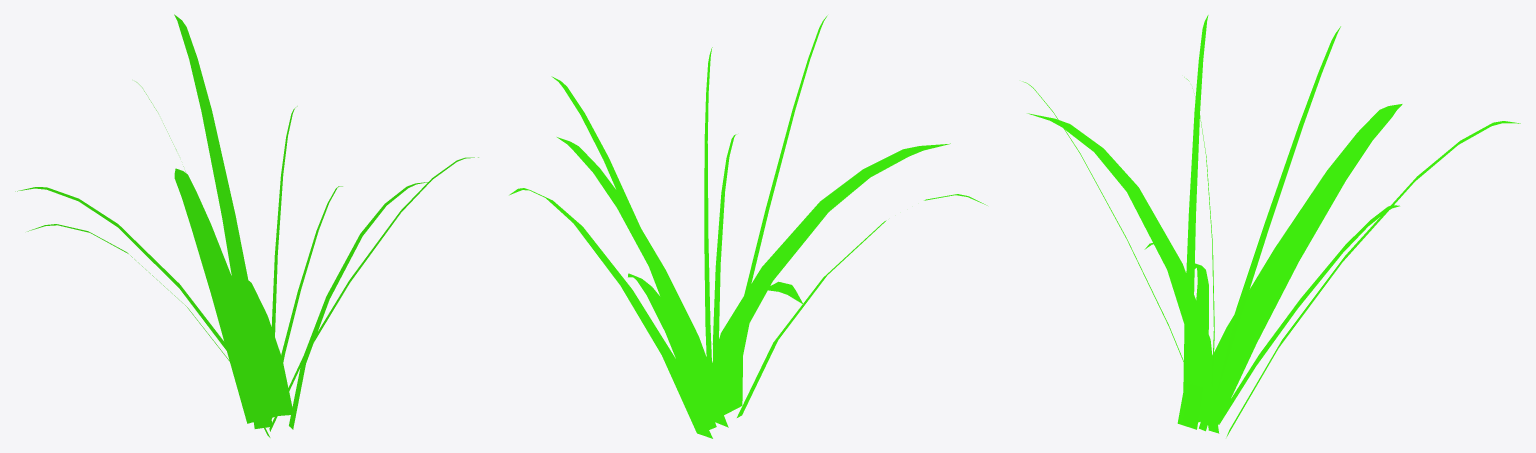
Rendered from grasssss.glb.
3 views of the same model, side by side, from view 1: azimuth 30°, elevation 25°; view 2: azimuth 150°, elevation 25°; view 3: azimuth 270°, elevation 25° (orthographic). The views are drawn at different scales.
Visible parts, largest first — view 1: Plane.001; view 2: Plane.001; view 3: Plane.001.
Part boxes in pixels (bbox=[...]): Plane.001: bbox=[15, 14, 478, 437]; Plane.001: bbox=[509, 15, 987, 438]; Plane.001: bbox=[1022, 15, 1520, 437].
Size of the model in its own units: 2.85 by 2.14 by 2.67.
